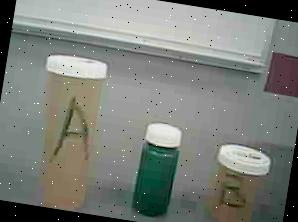Bottle A: (21, 44, 123, 215)
Bottle B: (196, 140, 278, 222)
Bottle C: (126, 117, 188, 222)
